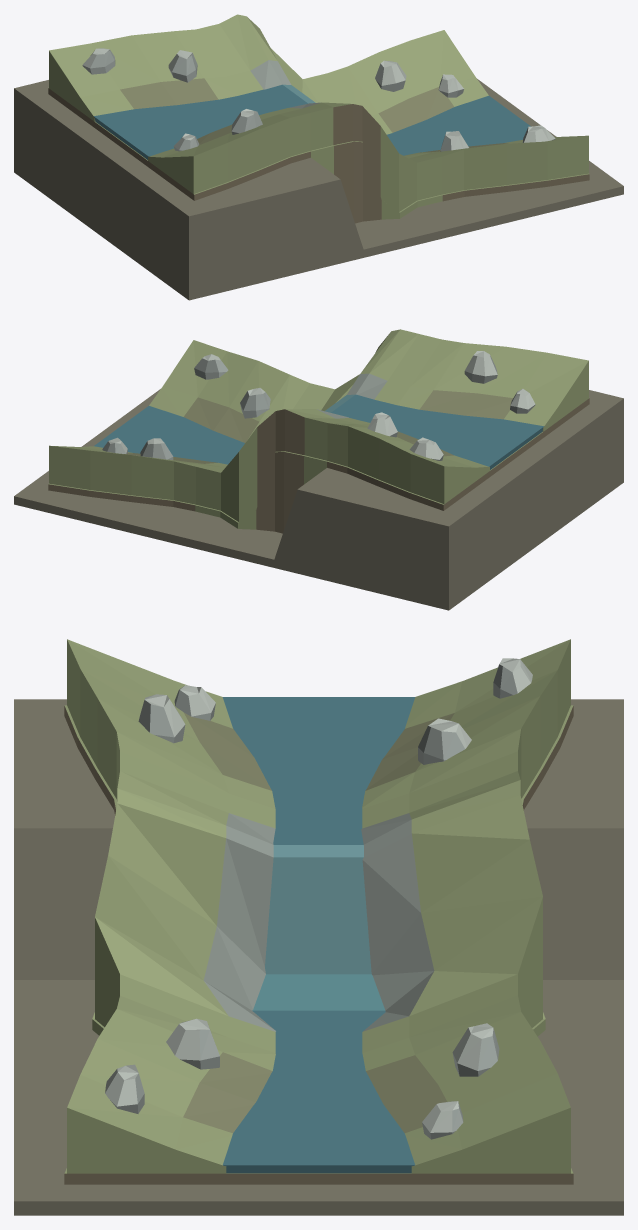
3 renders of one model, top to bottom at view 1: azimuth 30°, elevation 25°; view 2: azimuth 150°, elevation 25°; view 3: azimuth 270°, elevation 25°, orthographic. The views are drawn at different scales.
Visible parts, largest first — view 1: SceneOnly_ContinuousFoundation, fall__Waterfall_ContinuousTerrain, up__Bank_South, down__Bank_North, up__Bank_North, down__Bank_South, up__WaterSurface_Runtime, down__WaterSurface_Runtime, up__Bed_ContinuousGround, fall__WaterSurface_Runtime, down__Bed_ContinuousGround, down__BankRock_03 (+6 smaller); view 2: SceneOnly_ContinuousFoundation, fall__Waterfall_ContinuousTerrain, up__Bank_North, down__Bank_South, up__Bank_South, down__Bank_North, up__WaterSurface_Runtime, down__WaterSurface_Runtime, up__Bed_ContinuousGround, fall__WaterSurface_Runtime, down__Bed_ContinuousGround, up__BankRock_03 (+6 smaller); view 3: SceneOnly_ContinuousFoundation, fall__Waterfall_ContinuousTerrain, fall__WaterSurface_Runtime, down__Bank_North, down__Bank_South, down__WaterSurface_Runtime, up__WaterSurface_Runtime, up__Bank_North, up__Bank_South, down__Bed_ContinuousGround, down__BankRock_01, down__BankRock_03 (+7 smaller).
Part boxes in pixels (bbox=[...]): SceneOnly_ContinuousFoundation: bbox=[14, 79, 623, 300]; fall__Waterfall_ContinuousTerrain: bbox=[196, 14, 442, 223]; up__Bank_South: bbox=[49, 29, 240, 121]; down__Bank_North: bbox=[328, 30, 488, 134]; up__Bank_North: bbox=[148, 113, 310, 193]; down__Bank_South: bbox=[404, 135, 588, 194]; up__WaterSurface_Runtime: bbox=[94, 95, 265, 159]; down__WaterSurface_Runtime: bbox=[387, 95, 530, 155]; up__Bed_ContinuousGround: bbox=[48, 87, 310, 200]; fall__WaterSurface_Runtime: bbox=[241, 84, 315, 113]; down__Bed_ContinuousGround: bbox=[442, 173, 589, 201]; down__BankRock_03: bbox=[375, 60, 406, 91]; SceneOnly_ContinuousFoundation: bbox=[14, 389, 623, 610]; fall__Waterfall_ContinuousTerrain: bbox=[195, 329, 441, 533]; up__Bank_North: bbox=[397, 339, 588, 431]; down__Bank_South: bbox=[149, 340, 309, 442]; up__Bank_South: bbox=[327, 423, 489, 504]; down__Bank_North: bbox=[49, 445, 227, 504]; up__WaterSurface_Runtime: bbox=[386, 405, 543, 469]; down__WaterSurface_Runtime: bbox=[94, 406, 244, 464]; up__Bed_ContinuousGround: bbox=[327, 398, 589, 510]; fall__WaterSurface_Runtime: bbox=[325, 394, 396, 422]; down__Bed_ContinuousGround: bbox=[48, 483, 195, 511]; up__BankRock_03: bbox=[464, 351, 497, 383]; SceneOnly_ContinuousFoundation: bbox=[14, 699, 623, 1215]; fall__Waterfall_ContinuousTerrain: bbox=[92, 751, 545, 1052]; fall__WaterSurface_Runtime: bbox=[252, 809, 385, 1053]; down__Bank_North: bbox=[362, 995, 570, 1173]; down__Bank_South: bbox=[67, 995, 275, 1173]; down__WaterSurface_Runtime: bbox=[223, 1053, 414, 1173]; up__WaterSurface_Runtime: bbox=[222, 697, 415, 808]; up__Bank_North: bbox=[67, 639, 275, 808]; up__Bank_South: bbox=[362, 639, 570, 808]; down__Bed_ContinuousGround: bbox=[64, 1168, 573, 1184]; down__BankRock_01: bbox=[166, 1018, 219, 1069]; down__BankRock_03: bbox=[452, 1023, 499, 1076].
Size of the model in its own units: 6.6 by 1.95 by 4.6.
